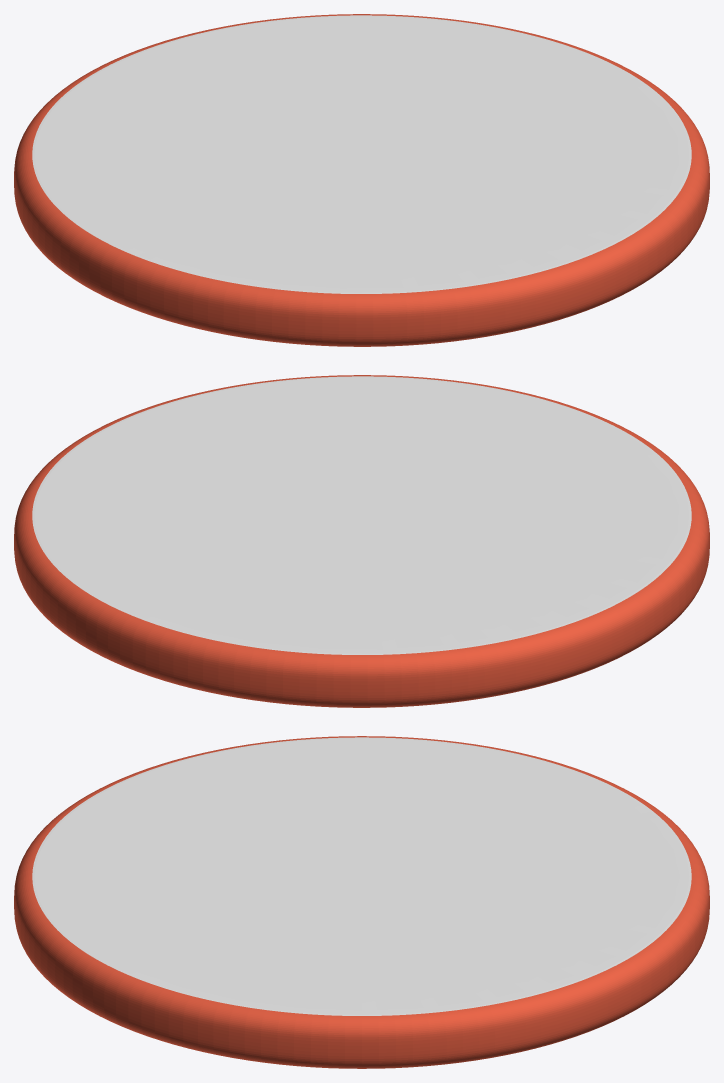
Rendered from ground_smoother.fbx.
3 views of the same model, one above another, from view 1: azimuth 30°, elevation 25°; view 2: azimuth 150°, elevation 25°; view 3: azimuth 270°, elevation 25° (orthographic).
Parts seen in each view (by area): view 1: Circle; view 2: Circle; view 3: Circle.
Part boxes in pixels (bbox=[...]): Circle: bbox=[14, 14, 709, 346]; Circle: bbox=[14, 375, 709, 707]; Circle: bbox=[14, 736, 709, 1068].
Bounding box in the file's own units: 675 × 55.48 × 675.
